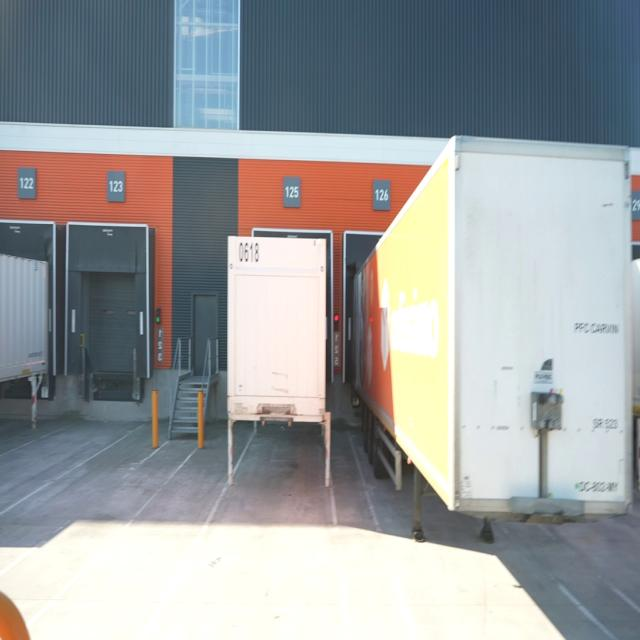Code: (232, 235, 263, 268)
